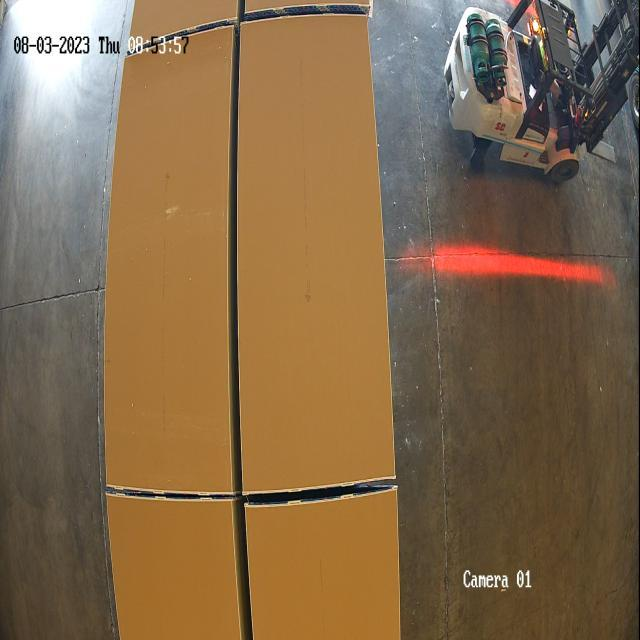forklift: (442, 0, 640, 195)
